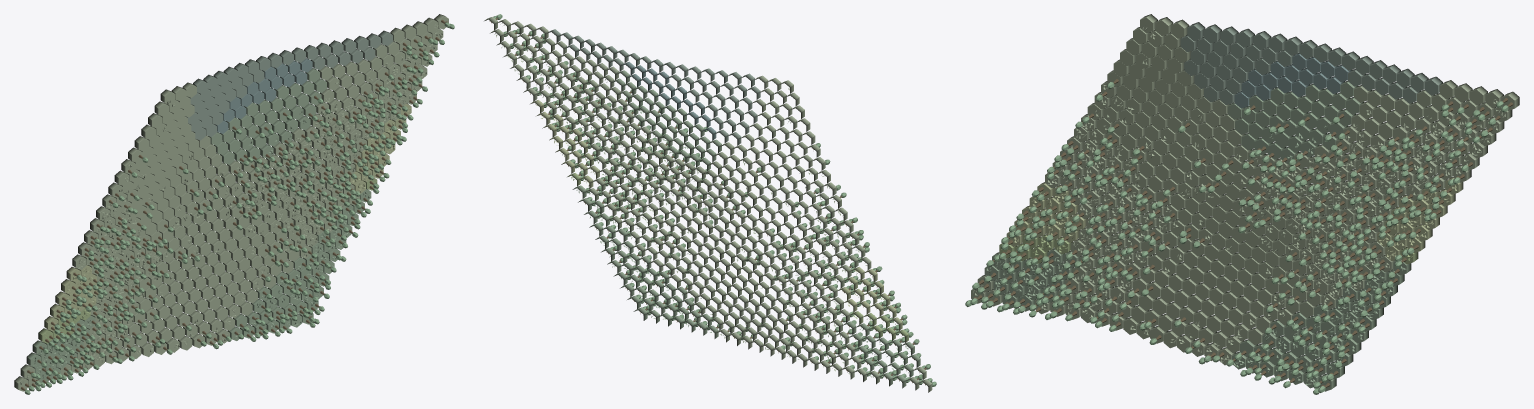
File: world.glb
3 renders of one model, left to right at view 1: azimuth 30°, elevation 25°; view 2: azimuth 150°, elevation 25°; view 3: azimuth 330°, elevation 25°, orthographic. The views are drawn at different scales.
Parts seen in each view (by area): view 1: world; view 2: world; view 3: world.
Part boxes in pixels (x1,y1,x2,y2): world: (14,14,454,394); world: (484,14,936,392); world: (965,14,1519,394).
Bounding box in the file's own units: 63.91 × 37.8 × 5.78.
